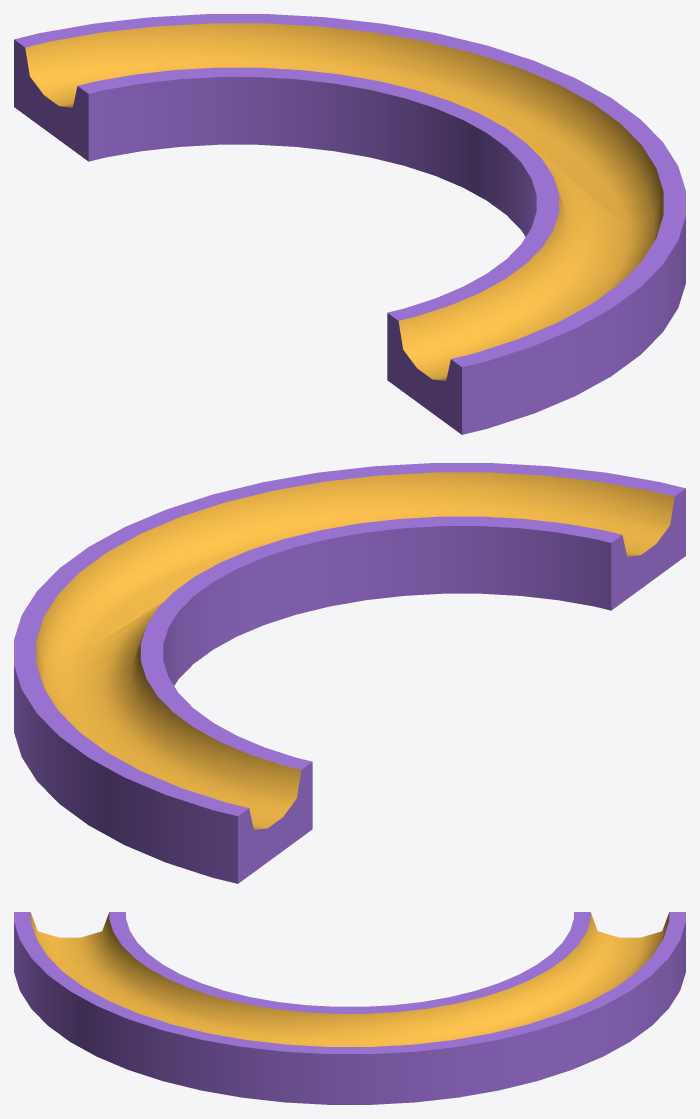
Rendered from bend-large-col.glb.
3 views of the same model, one above another, from view 1: azimuth 30°, elevation 25°; view 2: azimuth 150°, elevation 25°; view 3: azimuth 270°, elevation 25° (orthographic). The views are drawn at different scales.
Parts seen in each view (by area): view 1: bend-large-col; view 2: bend-large-col; view 3: bend-large-col.
Part boxes in pixels (x1=…): bend-large-col: x1=14, y1=14, x2=685, y2=434; bend-large-col: x1=14, y1=463, x2=685, y2=883; bend-large-col: x1=14, y1=912, x2=685, y2=1104.
Bounding box in the file's own units: 3 × 0.5 × 6.
1 material, 1 textured.
